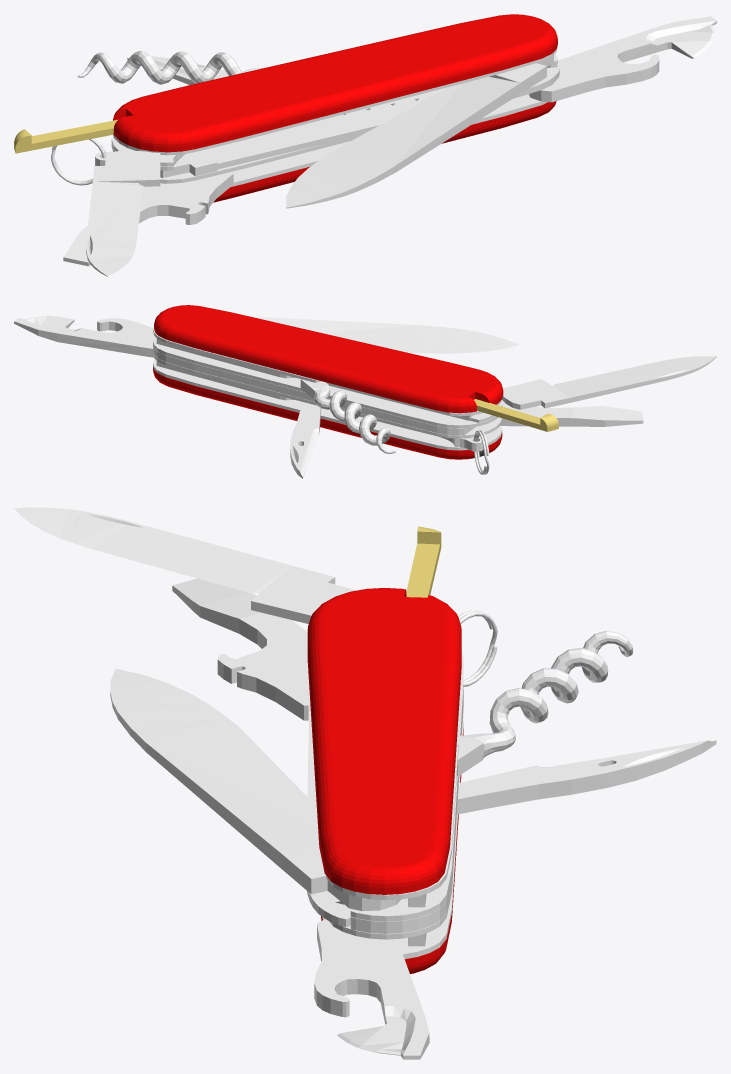
3 renders of one model, top to bottom at view 1: azimuth 30°, elevation 25°; view 2: azimuth 150°, elevation 25°; view 3: azimuth 270°, elevation 25°, orthographic. The views are drawn at different scales.
Parts seen in each view (by area): view 1: swiss army knife; view 2: swiss army knife; view 3: swiss army knife.
Part boxes in pixels (bbox=[...]): swiss army knife: bbox=[14, 14, 716, 276]; swiss army knife: bbox=[14, 305, 716, 478]; swiss army knife: bbox=[14, 507, 716, 1059].
Size of the model in its own units: 1556 by 156 by 914.
